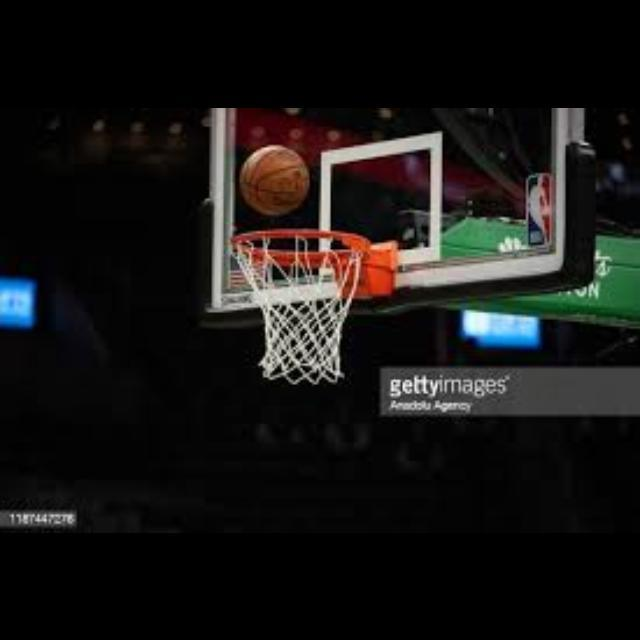basketball: (241, 144, 309, 213)
rim: (232, 228, 366, 384)
